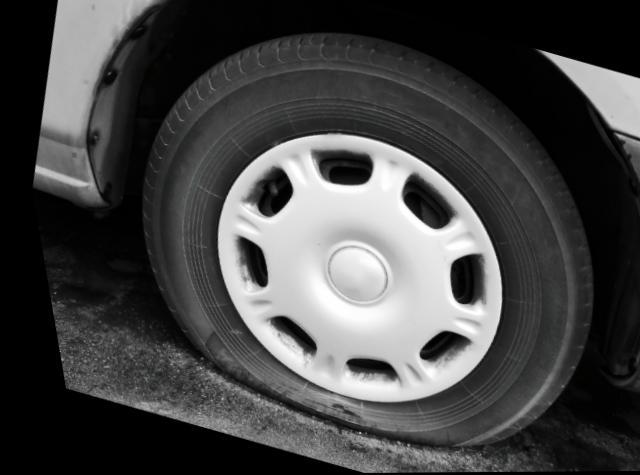tire flat: (132, 29, 587, 450)
